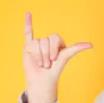clockwise: (21, 12, 97, 85)
